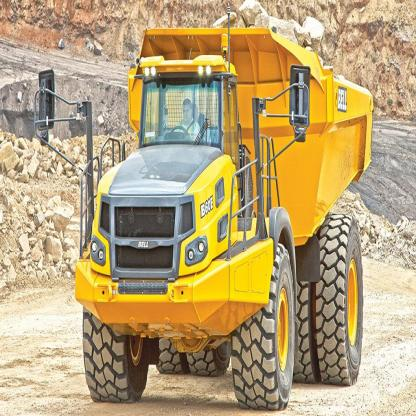dump_truck: (41, 17, 383, 409)
